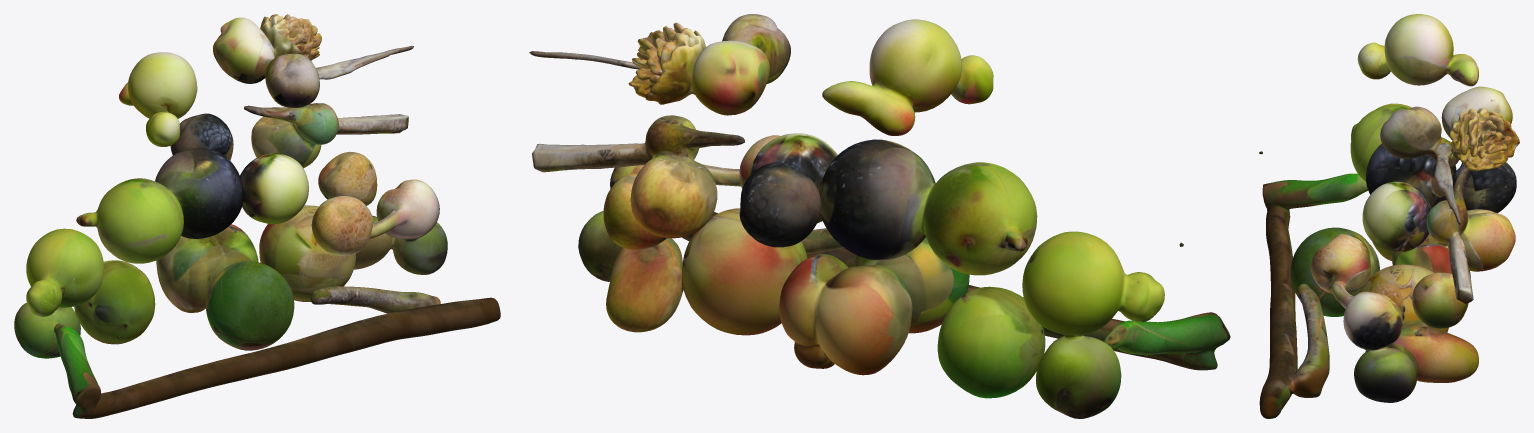
Rendered from tree0062_dup.gltf.
3 renders of one model, left to right at view 1: azimuth 30°, elevation 25°; view 2: azimuth 150°, elevation 25°; view 3: azimuth 270°, elevation 25°, orthographic. The views are drawn at different scales.
Parts seen in each view (by area): view 1: Mesh_0; view 2: Mesh_0; view 3: Mesh_0.
Part boxes in pixels (x1,y1,x2,y2): Mesh_0: (14, 14, 500, 418); Mesh_0: (529, 14, 1230, 418); Mesh_0: (1259, 14, 1519, 418).
Bounding box in the file's own units: 2.01 × 1.22 × 1.04.
Materials: 1 (1 with a texture image).
